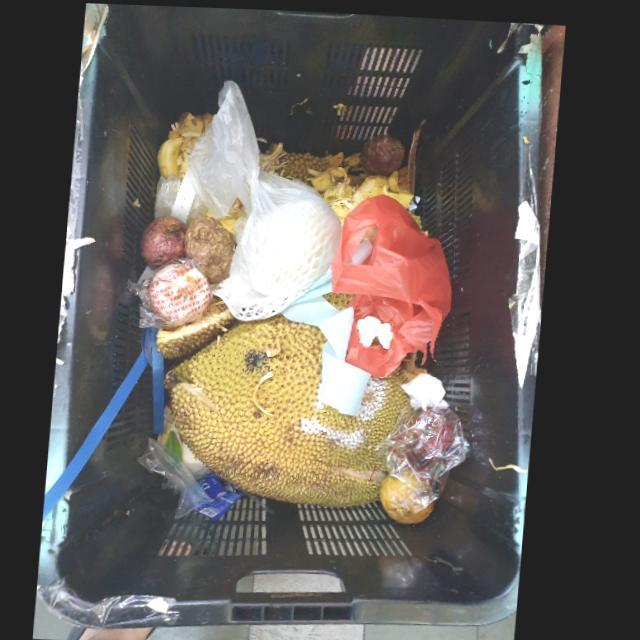biowaste: (170, 312, 423, 505), (312, 164, 416, 220), (160, 294, 242, 363), (266, 139, 349, 188), (187, 214, 239, 283), (160, 112, 213, 174), (143, 214, 189, 269), (360, 132, 406, 174)
plastic: (334, 191, 455, 374)
